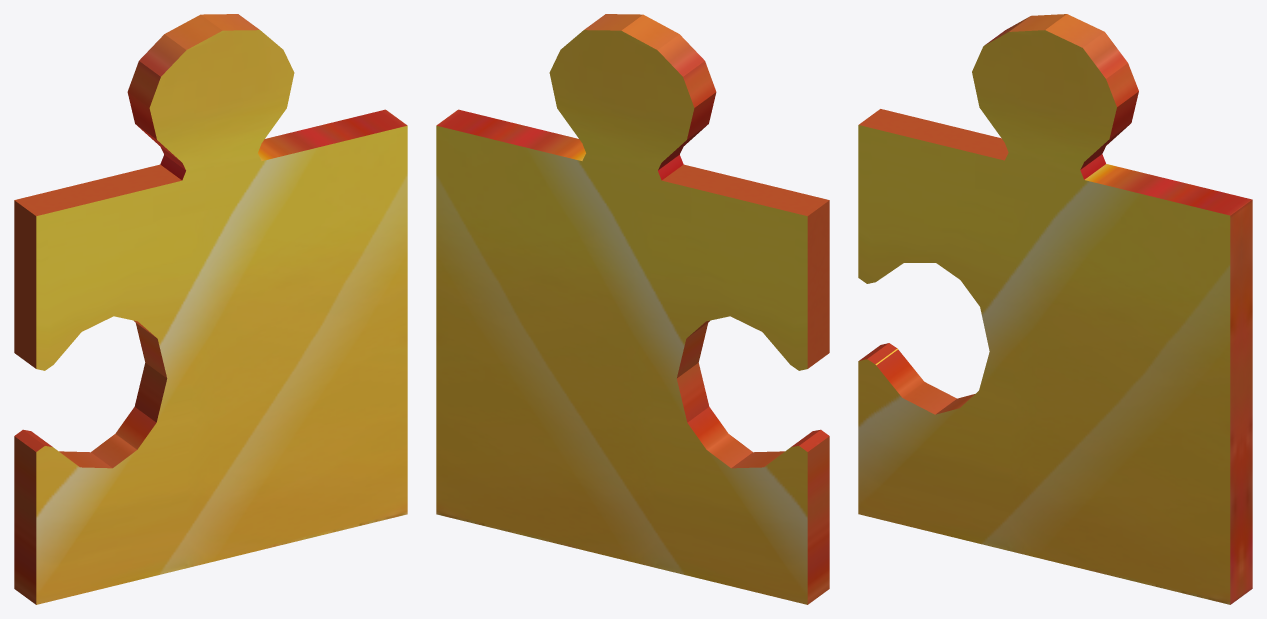
The model's file is suipian3.FBX.
The picture shows the model from 3 angles, left to right: view 1: azimuth 30°, elevation 25°; view 2: azimuth 150°, elevation 25°; view 3: azimuth 330°, elevation 25°; orthographic projection.
Parts seen in each view (by area): view 1: suipian3; view 2: suipian3; view 3: suipian3.
Boxes of the visible parts, left/top/right/bottom form: suipian3: left=14, top=14, right=407, bottom=604; suipian3: left=436, top=14, right=829, bottom=604; suipian3: left=858, top=14, right=1252, bottom=604.
Size of the model in its own units: 315 by 428 by 32.32.
1 material, 1 textured.
